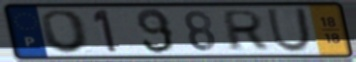1: (91, 9, 122, 55)
8: (183, 9, 219, 53)
9: (135, 7, 177, 55)
O: (38, 8, 93, 55)
R: (222, 9, 270, 52)
U: (264, 7, 314, 54)
